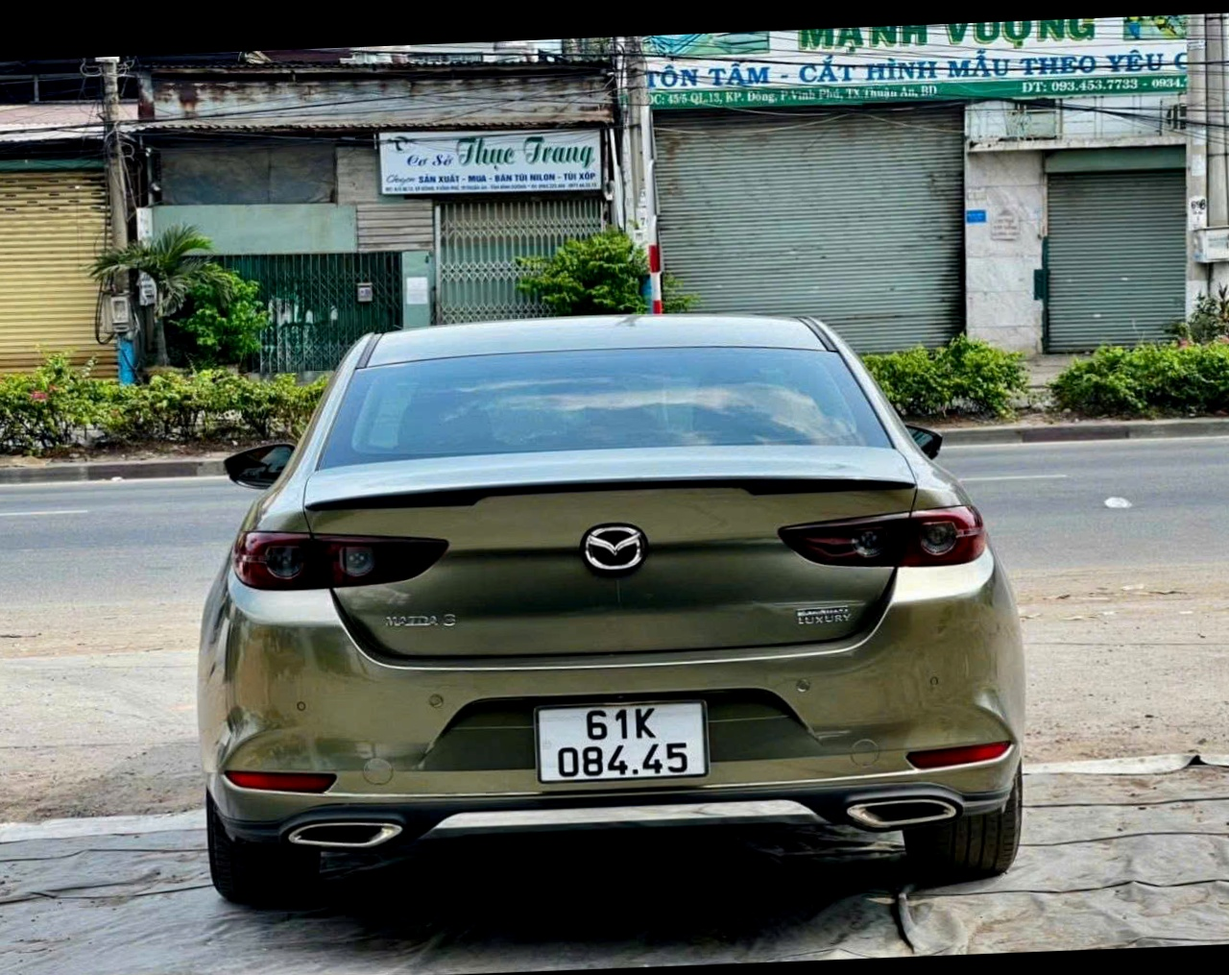Bien-so: (536, 686, 714, 771)
